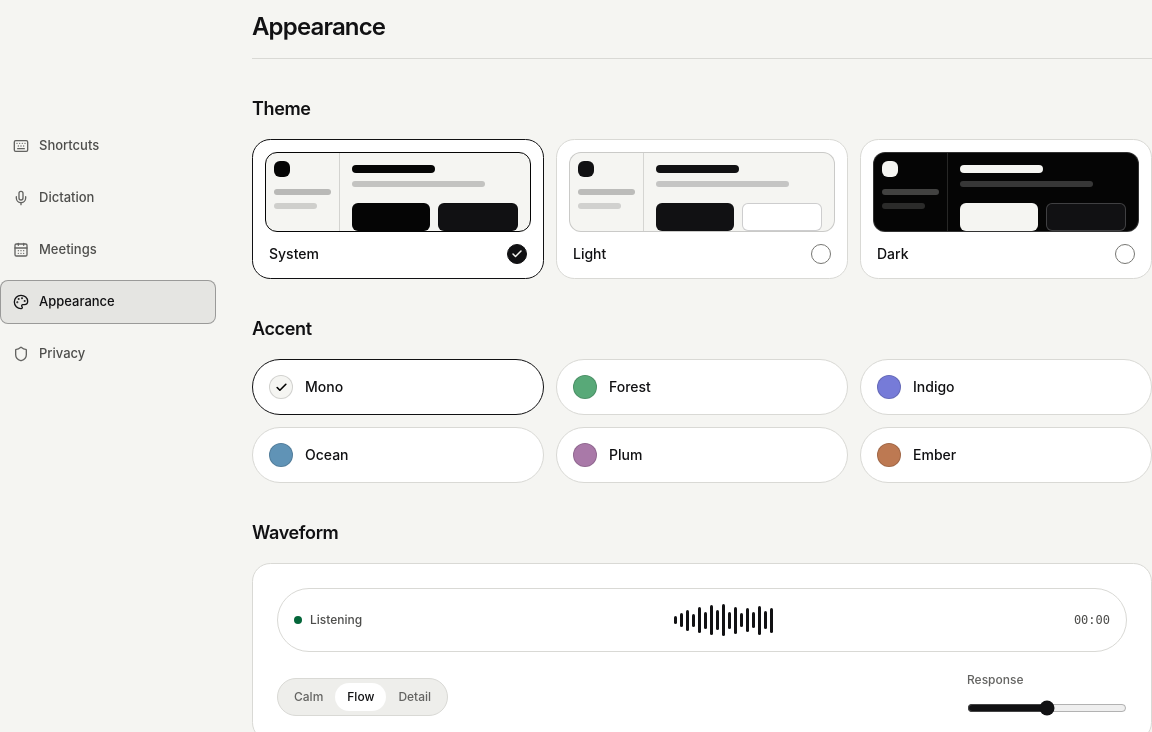
release settings › keeps waveform customization in appearance
The image size is (1152, 732).
Click the radio button labelled "Detail" at (415, 696), box [398, 689, 431, 704]
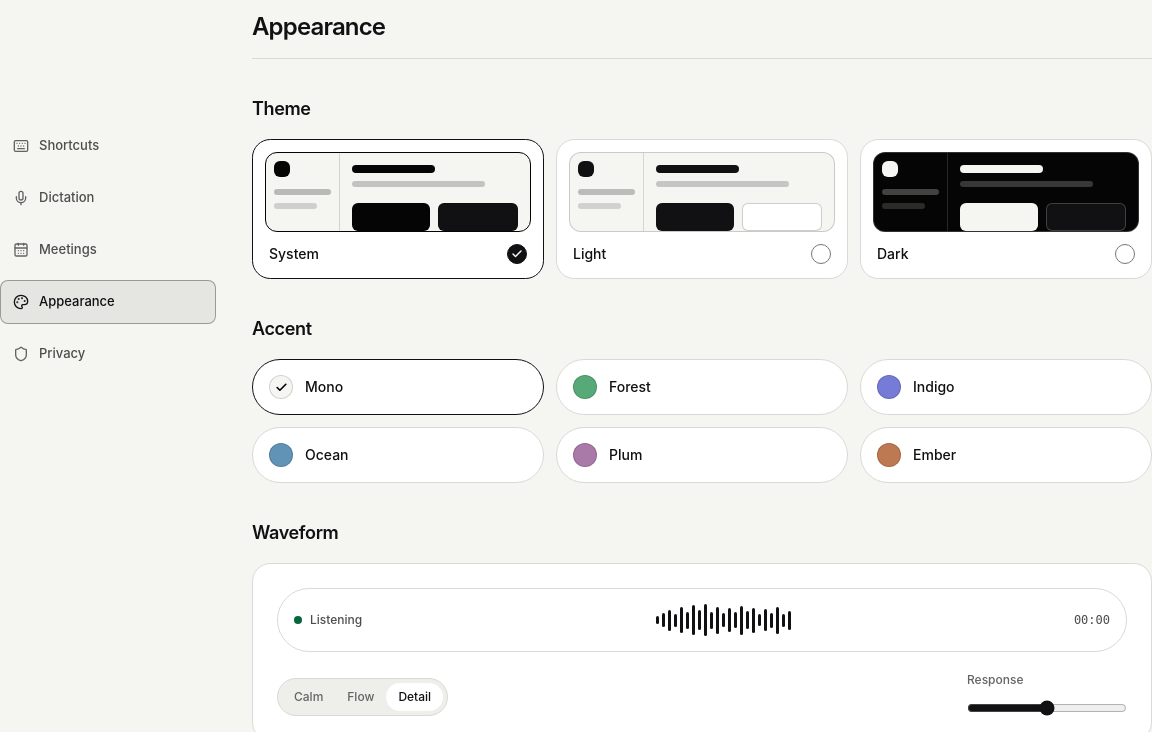
Set the slider named "Waveform response" to "1.2" at (1095, 708), box [967, 700, 1127, 716]
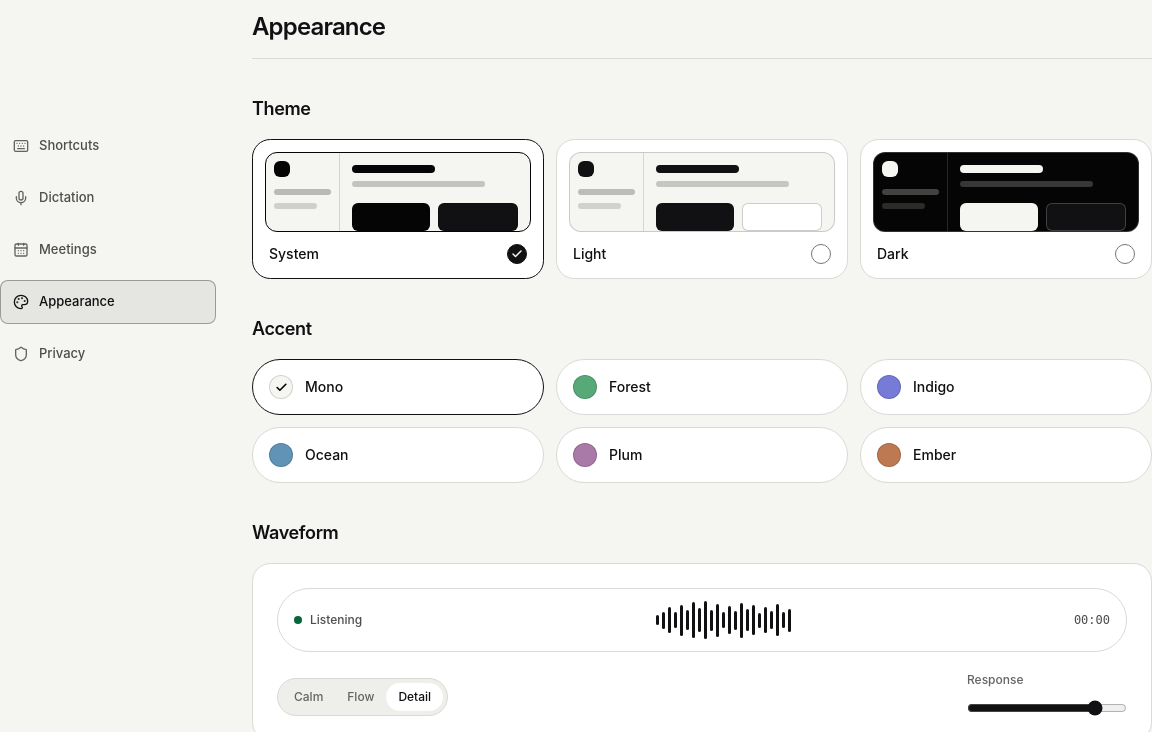
Result: the radio button labelled "Detail" is checked at [386, 683, 443, 711]
